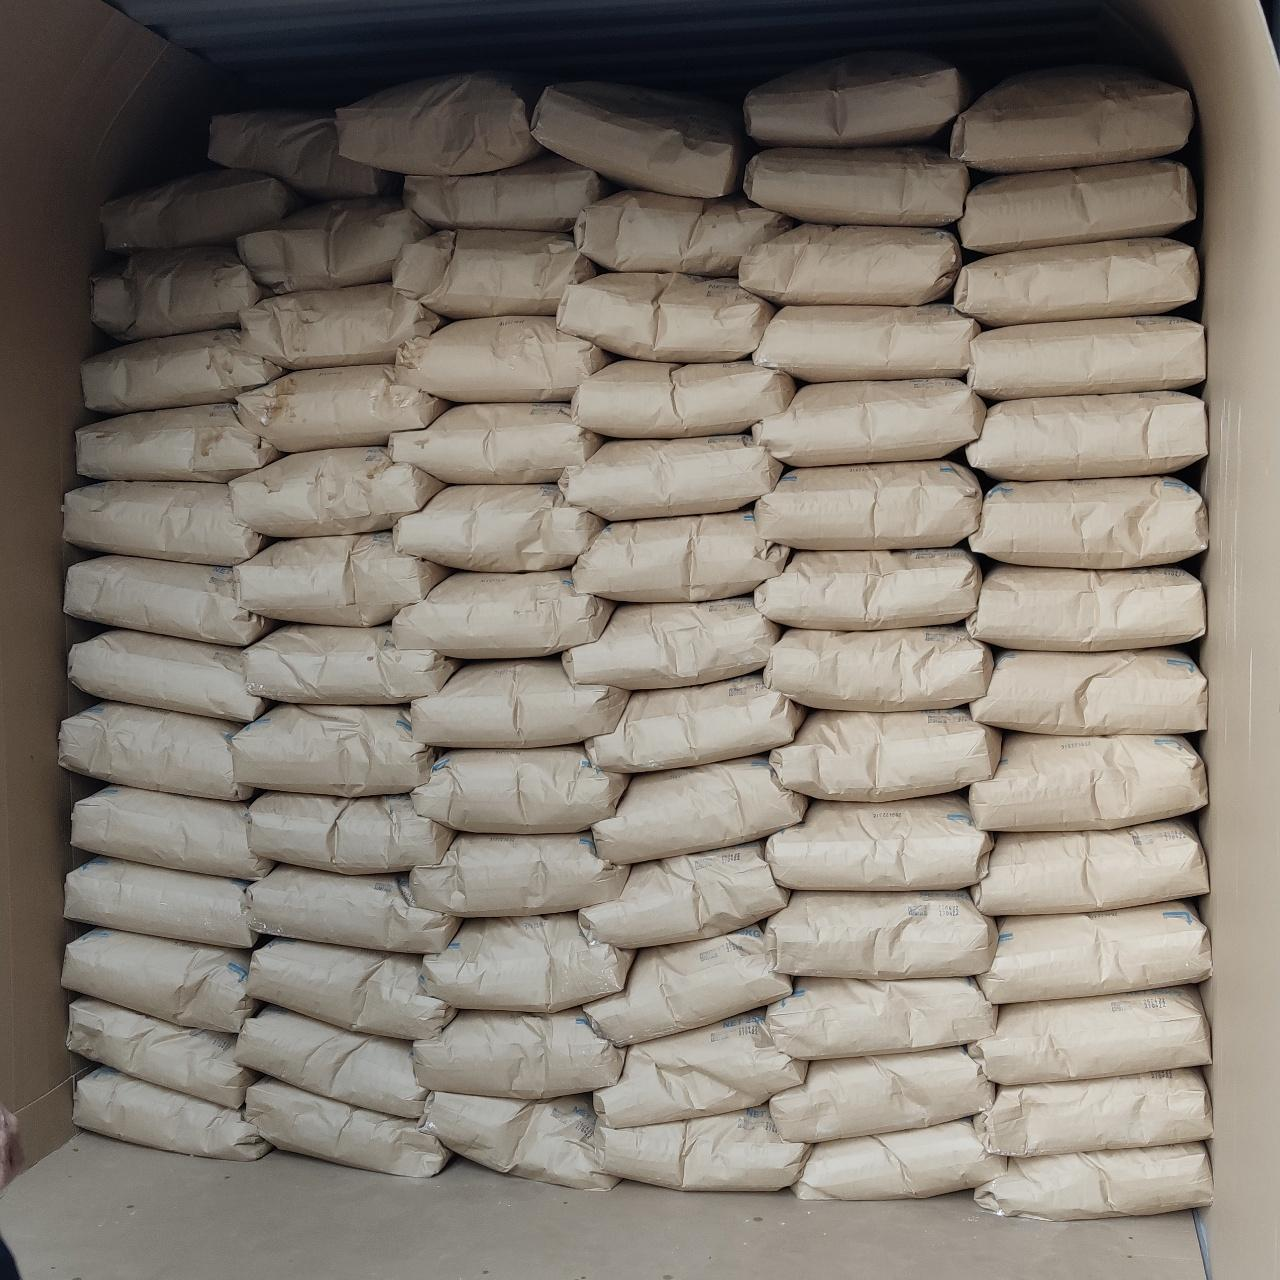sack: (952, 68, 1190, 172), (532, 82, 745, 196), (584, 926, 788, 1044), (594, 1012, 804, 1126), (978, 903, 1210, 1002), (971, 734, 1204, 830), (971, 988, 1208, 1082), (960, 159, 1194, 254), (594, 758, 806, 862), (974, 821, 1206, 914), (583, 842, 787, 946), (588, 674, 804, 772), (236, 1008, 425, 1118), (954, 240, 1198, 326), (745, 54, 976, 144), (338, 72, 542, 173), (971, 478, 1206, 566), (968, 392, 1206, 478), (768, 794, 990, 886), (772, 1048, 992, 1141), (248, 940, 454, 1039), (422, 914, 629, 1012), (971, 648, 1204, 734), (756, 459, 980, 549), (754, 380, 982, 467), (772, 710, 998, 798), (976, 1070, 1210, 1155), (244, 1080, 450, 1175), (64, 928, 256, 1030), (68, 998, 254, 1102), (968, 564, 1204, 646), (968, 316, 1204, 399), (764, 626, 990, 710), (564, 598, 778, 686), (765, 892, 994, 974), (232, 535, 445, 622), (60, 702, 254, 798), (238, 196, 430, 292), (422, 1092, 614, 1189), (230, 448, 442, 535), (394, 572, 612, 656), (411, 660, 626, 745), (768, 978, 994, 1058), (584, 1108, 806, 1190), (574, 512, 788, 598), (66, 556, 272, 644), (72, 787, 270, 878), (756, 549, 980, 629), (414, 745, 628, 830), (574, 190, 788, 274), (238, 366, 445, 452), (560, 436, 779, 518), (66, 858, 264, 948), (558, 274, 772, 358), (76, 1065, 268, 1158), (246, 866, 458, 949), (410, 835, 628, 915), (234, 706, 434, 794), (754, 304, 976, 382), (976, 1144, 1212, 1218), (394, 486, 602, 570), (414, 1010, 622, 1094), (70, 629, 263, 719), (396, 232, 595, 318), (396, 318, 606, 399), (572, 360, 794, 436), (740, 226, 958, 302), (100, 170, 300, 252), (744, 148, 966, 222), (794, 1121, 1005, 1198), (241, 284, 440, 366), (64, 482, 263, 564), (390, 404, 598, 482), (84, 331, 282, 411), (244, 626, 454, 702), (210, 110, 396, 196), (248, 792, 452, 870), (91, 248, 263, 340), (406, 154, 608, 230), (79, 404, 278, 481)
